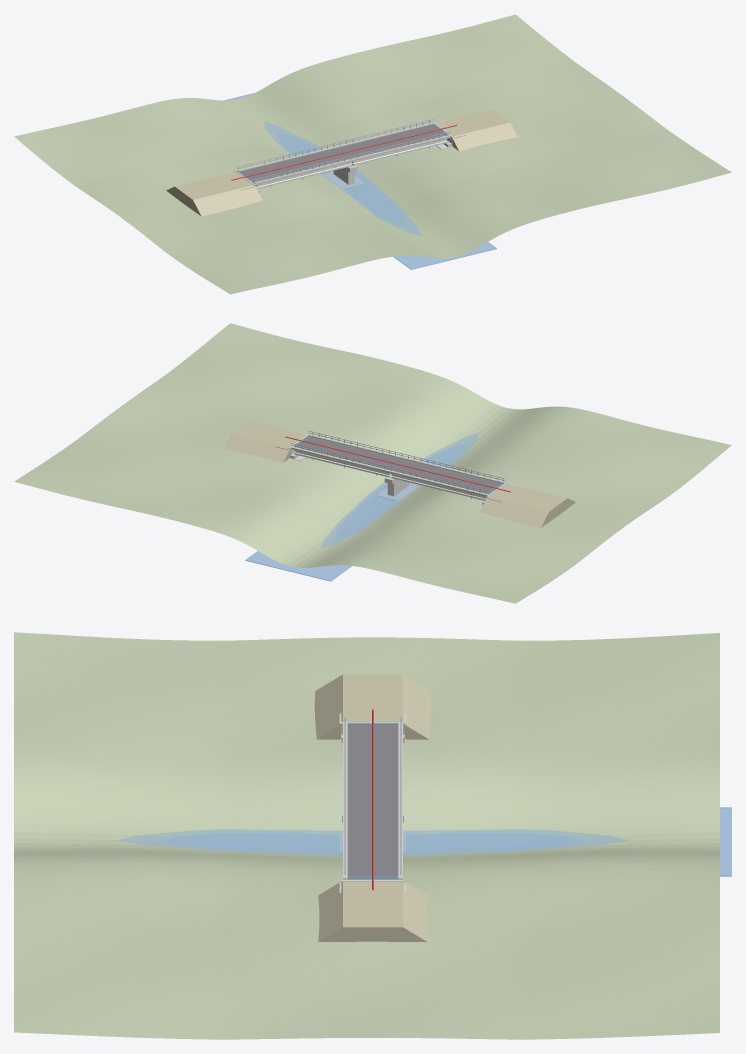
3 views of the same model, one above another, from view 1: azimuth 30°, elevation 25°; view 2: azimuth 150°, elevation 25°; view 3: azimuth 270°, elevation 25° (orthographic). The views are drawn at different scales.
Visible parts, largest first — view 1: 地形|現況地形 (参考), 地形|水面 (参考), 上部工|舗装 (アスファルト t=8cm), 土工|取付部盛土 (起点側, 参考), 土工|取付部盛土 (終点側, 参考), 上部工|地覆 (左), 附属物|高欄 (左, 支柱31本), 附属物|高欄 (右, 支柱31本), 上部工|地覆 (右), 上部工|主桁 G5 (PC T桁 H=1.9m, 第2径間), 上部工|主桁 G5 (PC T桁 H=1.9m, 第1径間); view 2: 地形|現況地形 (参考), 地形|水面 (参考), 上部工|舗装 (アスファルト t=8cm), 土工|取付部盛土 (起点側, 参考), 土工|取付部盛土 (終点側, 参考), 上部工|地覆 (右), 附属物|高欄 (左, 支柱31本), 附属物|高欄 (右, 支柱31本), 上部工|地覆 (左), 上部工|主桁 G1 (PC T桁 H=1.9m, 第2径間), 上部工|主桁 G1 (PC T桁 H=1.9m, 第1径間); view 3: 地形|現況地形 (参考), 地形|水面 (参考), 上部工|舗装 (アスファルト t=8cm), 土工|取付部盛土 (終点側, 参考), 土工|取付部盛土 (起点側, 参考), 上部工|地覆 (左), 上部工|地覆 (右).
Boxes of the visible parts, x1=… form: 地形|現況地形 (参考): x1=14, y1=14, x2=731, y2=294; 地形|水面 (参考): x1=223, y1=93, x2=496, y2=269; 上部工|舗装 (アスファルト t=8cm): x1=238, y1=124, x2=448, y2=182; 土工|取付部盛土 (起点側, 参考): x1=166, y1=172, x2=262, y2=216; 土工|取付部盛土 (終点側, 参考): x1=435, y1=109, x2=517, y2=151; 上部工|地覆 (左): x1=254, y1=135, x2=451, y2=184; 附属物|高欄 (左, 支柱31本): x1=254, y1=131, x2=450, y2=182; 附属物|高欄 (右, 支柱31本): x1=237, y1=119, x2=433, y2=169; 上部工|地覆 (右): x1=237, y1=122, x2=434, y2=171; 上部工|主桁 G5 (PC T桁 H=1.9m, 第2径間): x1=352, y1=138, x2=447, y2=165; 上部工|主桁 G5 (PC T桁 H=1.9m, 第1径間): x1=256, y1=162, x2=350, y2=188; 地形|現況地形 (参考): x1=14, y1=323, x2=731, y2=603; 地形|水面 (参考): x1=245, y1=433, x2=478, y2=581; 上部工|舗装 (アスファルト t=8cm): x1=293, y1=436, x2=503, y2=494; 土工|取付部盛土 (起点側, 参考): x1=479, y1=483, x2=575, y2=527; 土工|取付部盛土 (終点側, 参考): x1=224, y1=420, x2=306, y2=462; 上部工|地覆 (右): x1=291, y1=446, x2=488, y2=496; 附属物|高欄 (左, 支柱31本): x1=308, y1=430, x2=504, y2=481; 附属物|高欄 (右, 支柱31本): x1=291, y1=443, x2=487, y2=494; 上部工|地覆 (左): x1=308, y1=434, x2=505, y2=483; 上部工|主桁 G1 (PC T桁 H=1.9m, 第2径間): x1=294, y1=450, x2=389, y2=477; 上部工|主桁 G1 (PC T桁 H=1.9m, 第1径間): x1=391, y1=474, x2=486, y2=500; 地形|現況地形 (参考): x1=14, y1=632, x2=719, y2=1039; 地形|水面 (参考): x1=117, y1=807, x2=731, y2=876; 上部工|舗装 (アスファルト t=8cm): x1=347, y1=723, x2=398, y2=879; 土工|取付部盛土 (終点側, 参考): x1=318, y1=881, x2=427, y2=941; 土工|取付部盛土 (起点側, 参考): x1=314, y1=674, x2=431, y2=739; 上部工|地覆 (左): x1=343, y1=722, x2=347, y2=879; 上部工|地覆 (右): x1=398, y1=722, x2=402, y2=879.
Bounding box in the file's own units: 158 × 25.96 × 120.
